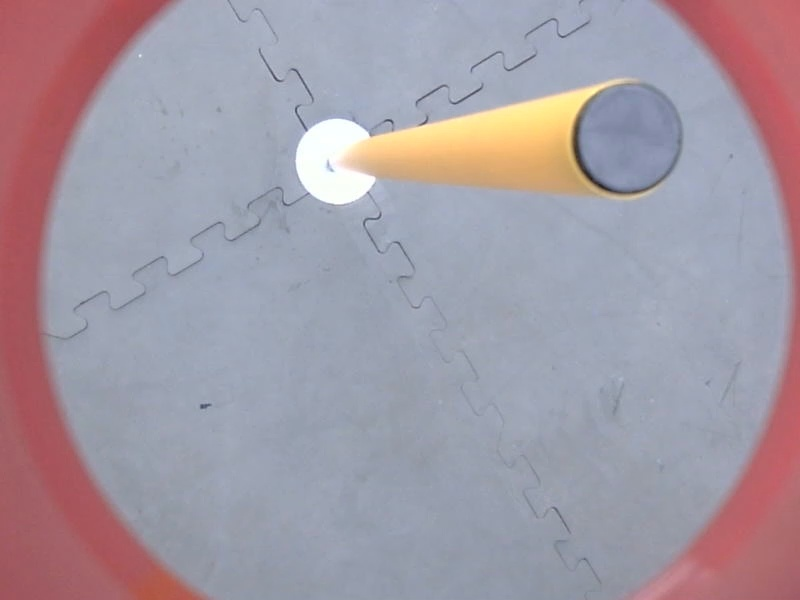tip: (558, 72, 692, 205)
